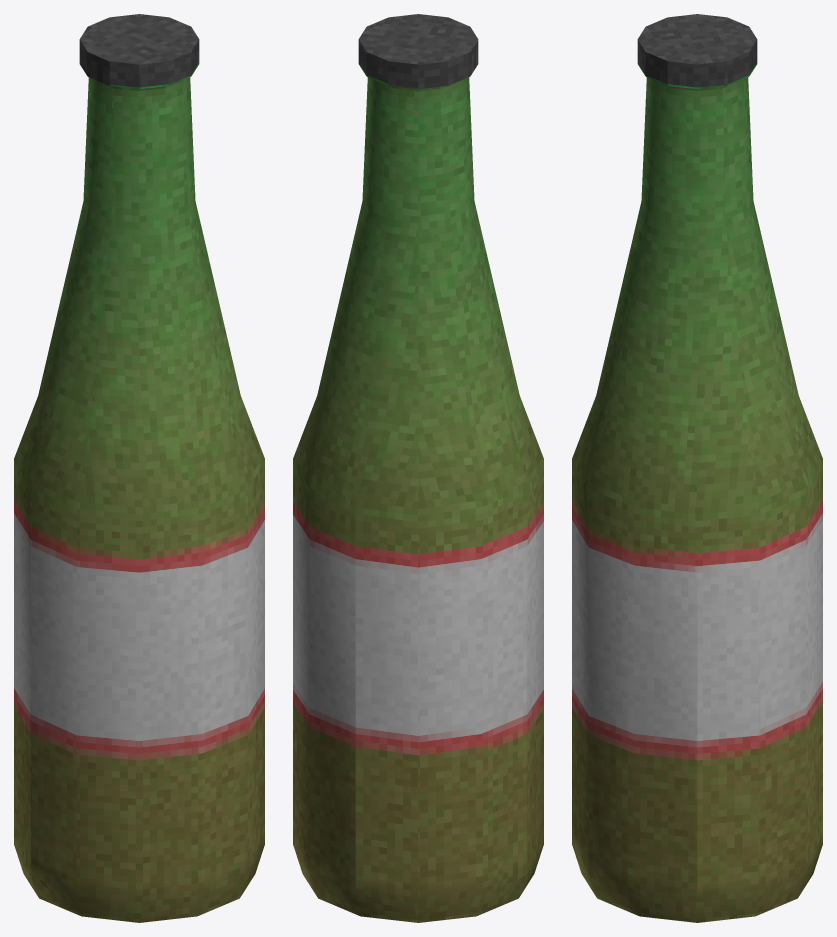
File: bottle.glb
3 views of the same model, side by side, from view 1: azimuth 30°, elevation 25°; view 2: azimuth 150°, elevation 25°; view 3: azimuth 270°, elevation 25° (orthographic).
Visible parts, largest first — view 1: Bottle_1; view 2: Bottle_1; view 3: Bottle_1.
Part boxes in pixels (x1,y1,x2,y2): Bottle_1: [14, 14, 264, 922]; Bottle_1: [293, 14, 543, 922]; Bottle_1: [572, 14, 822, 922].
Size of the model in its own units: 0.3432 by 1.26 by 0.3432.
Materials: 1 (1 with a texture image).
